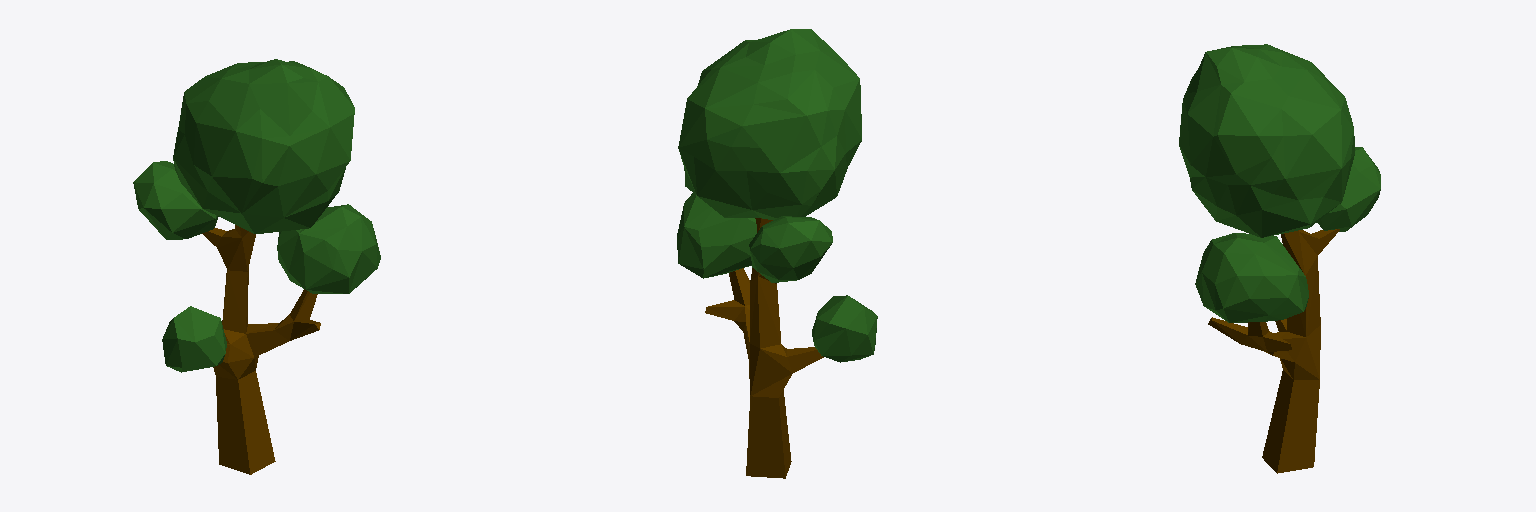
3 renders of one model, left to right at view 1: azimuth 30°, elevation 25°; view 2: azimuth 150°, elevation 25°; view 3: azimuth 270°, elevation 25°, orthographic.
Visible parts, largest first — view 1: Tree1_NaturePack; view 2: Tree1_NaturePack; view 3: Tree1_NaturePack.
Boxes of the visible parts, x1,y1,x2,y2 form: Tree1_NaturePack: [133, 59, 380, 474]; Tree1_NaturePack: [677, 29, 877, 478]; Tree1_NaturePack: [1179, 44, 1380, 473].
Size of the model in its own units: 19.58 by 39.87 by 17.5.
Materials: 3 (2 with a texture image).